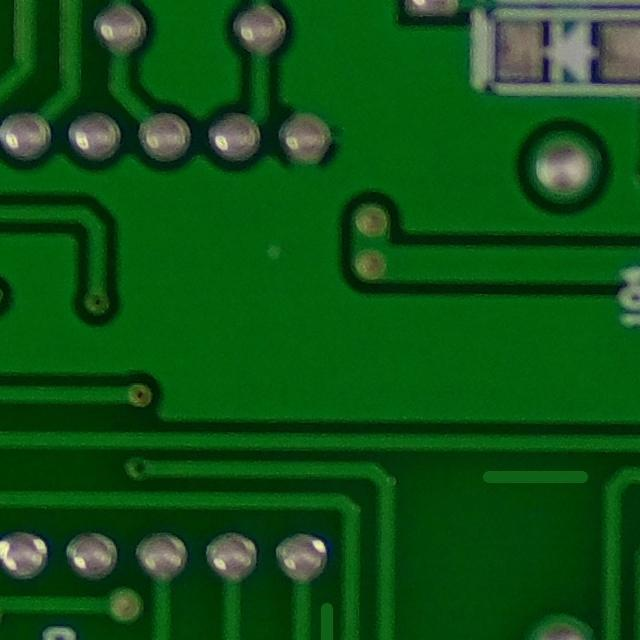spurious_copper: (475, 449, 605, 508)
